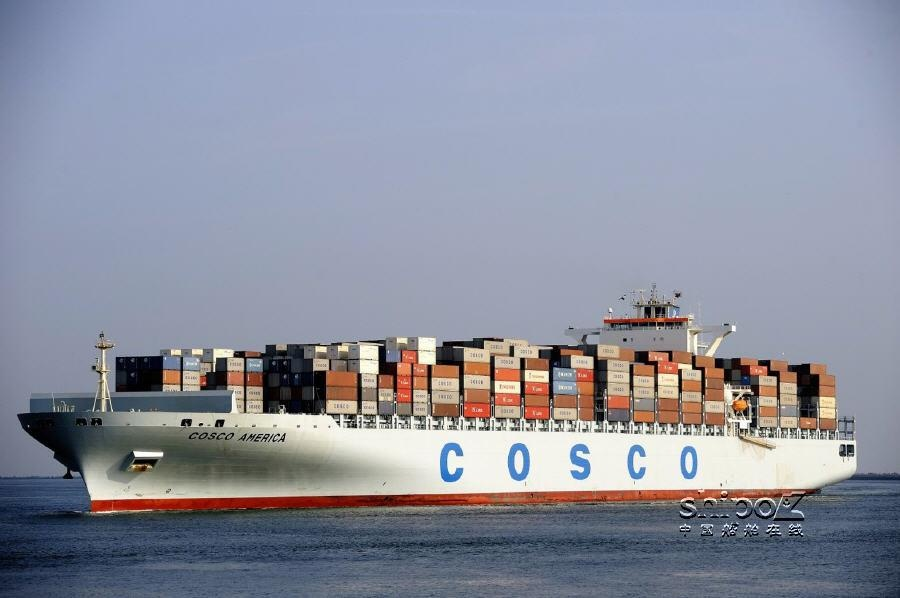Cargoship: (16, 282, 857, 526)
